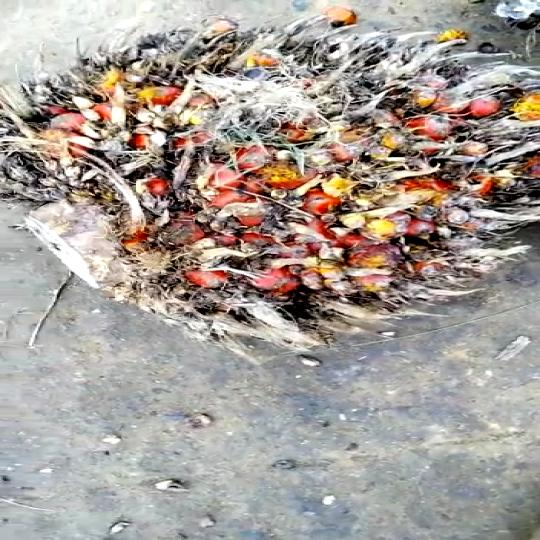terlalu masak: (0, 14, 540, 377)
